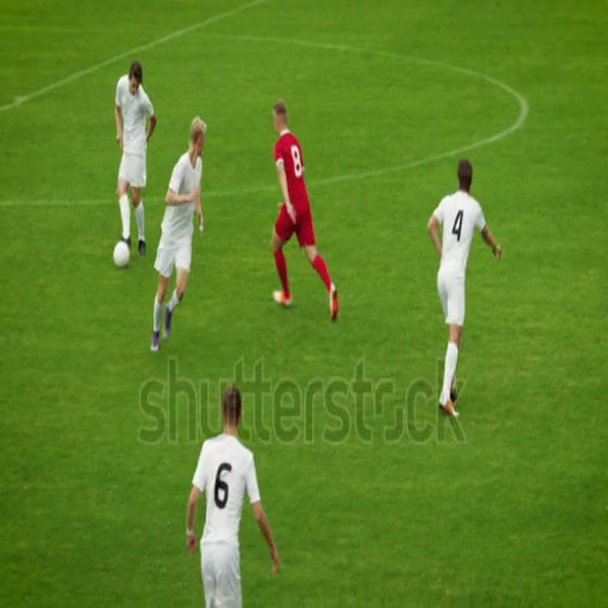ball: (114, 239, 131, 268)
